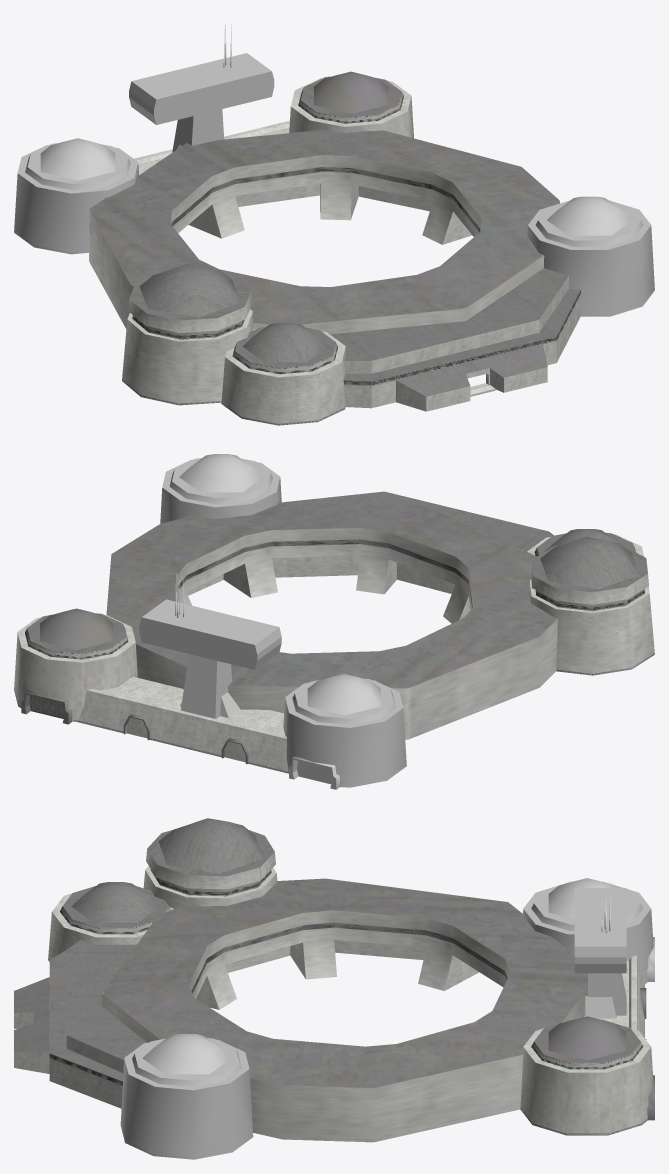
Rendered from mun_corl_starport_s01_u01_r0_mesh_l2.fbx.
3 renders of one model, top to bottom at view 1: azimuth 30°, elevation 25°; view 2: azimuth 150°, elevation 25°; view 3: azimuth 270°, elevation 25°, orthographic. The views are drawn at different scales.
Parts seen in each view (by area): view 1: mesh_node; view 2: mesh_node; view 3: mesh_node.
Boxes of the visible parts, x1,y1,x2,y2 form: mesh_node: (14,23,654,425); mesh_node: (14,454,654,789); mesh_node: (14,818,654,1159).
Bounding box in the file's own units: 150 × 47.84 × 160.
